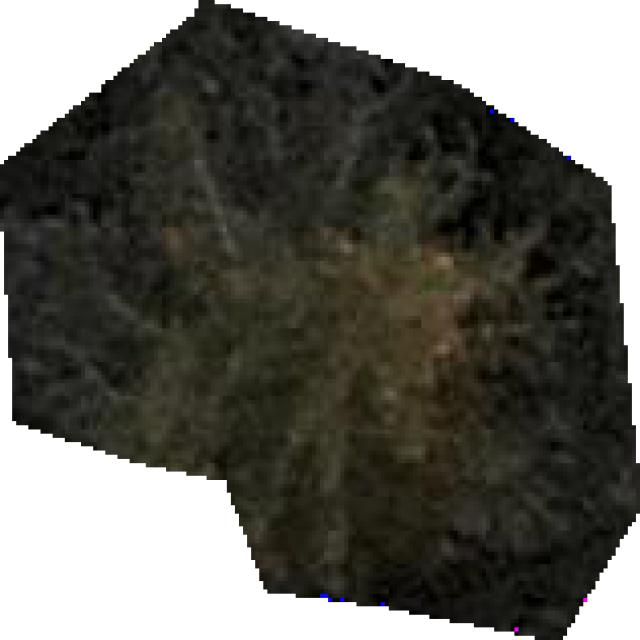spruce: (0, 0, 636, 636)
